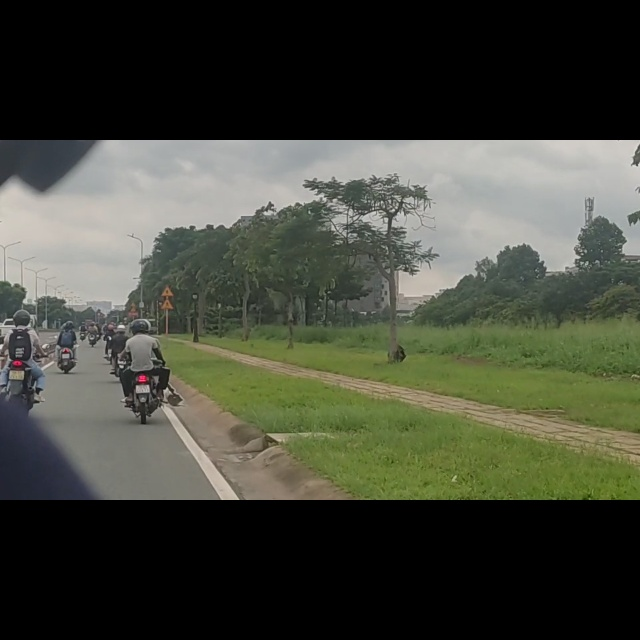bien_nguy_hiem: (161, 258, 174, 279), (161, 282, 175, 301)
